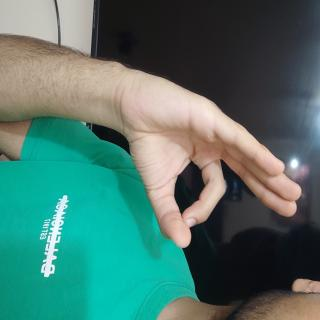Space: (48, 18, 191, 284)
